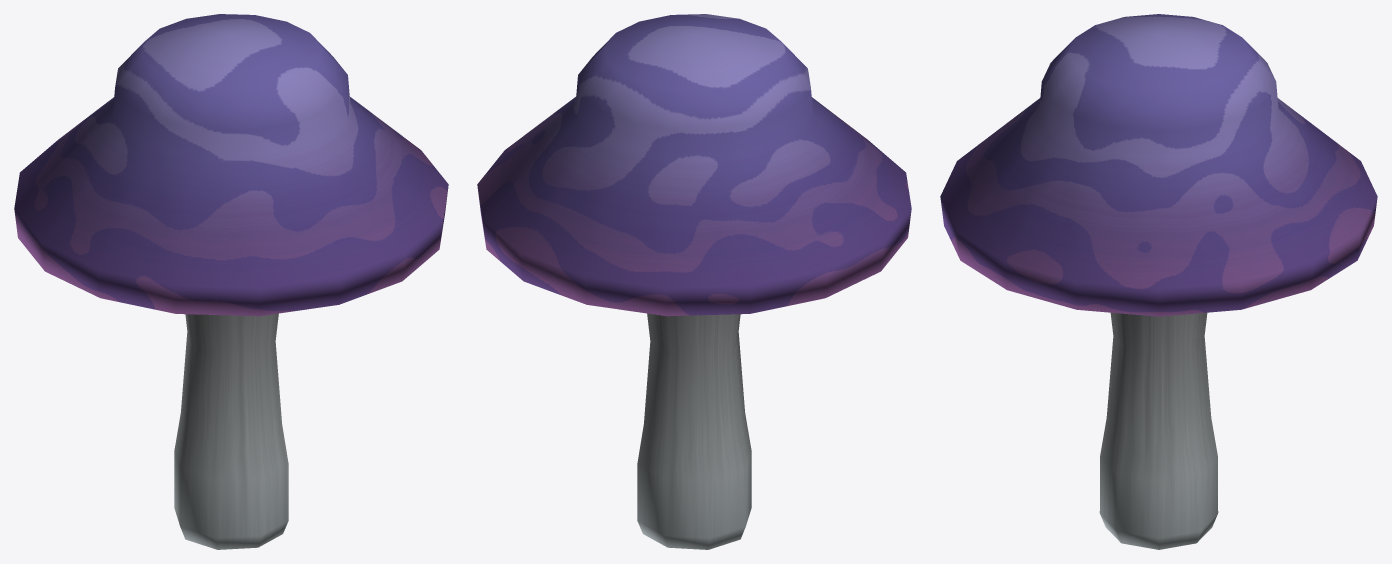
The model's file is VEG0110008.fbx.
3 views of the same model, side by side, from view 1: azimuth 30°, elevation 25°; view 2: azimuth 150°, elevation 25°; view 3: azimuth 270°, elevation 25° (orthographic).
Parts seen in each view (by area): view 1: smVEG0110008; view 2: smVEG0110008; view 3: smVEG0110008.
Boxes of the visible parts, box(x1,y1,x2,y2) form: smVEG0110008: box(14, 14, 448, 549); smVEG0110008: box(477, 14, 911, 549); smVEG0110008: box(940, 14, 1377, 549).
Bounding box in the file's own units: 30.61 × 38.52 × 30.61.
1 material, 1 textured.
